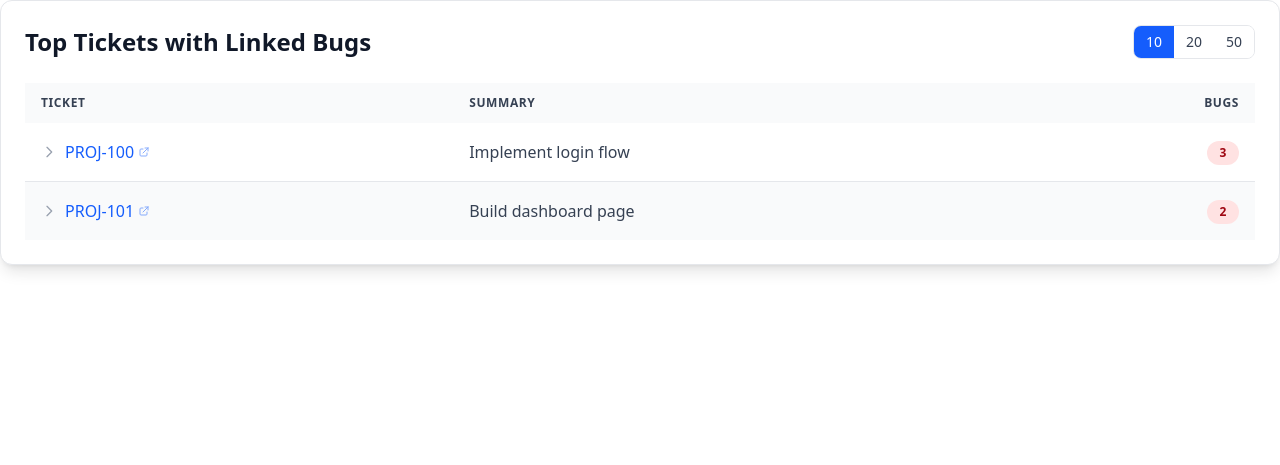
Test: TopTicketsWithBugsTable › only one row is expanded at a time
The width and height of the screenshot is (1280, 465).
Expected: the link "PROJ-100" is shown, [65,140,150,164]
# Expand first row
What coordinates should you click on to do the following:
click the text "Implement login flow"
I would click on:
 (640, 152)
Its box is [25,123,1255,182].
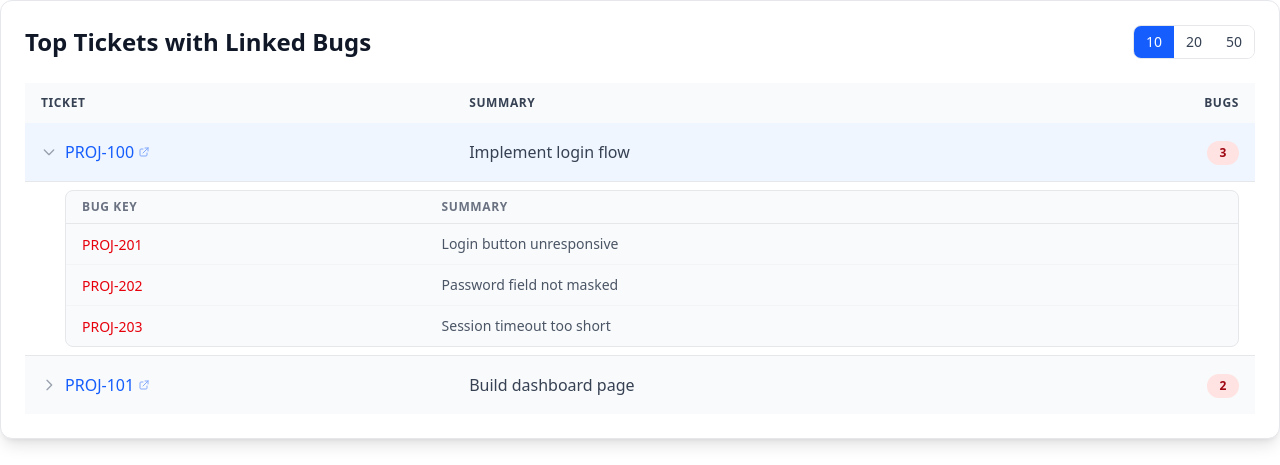
Expected: the text "Login button unresponsive" is shown, [426,224,1238,264]
# Expand second row
What coordinates should you click on to do the following:
click the text "Build dashboard page"
I would click on:
 (640, 385)
Its box is [25,356,1255,414].
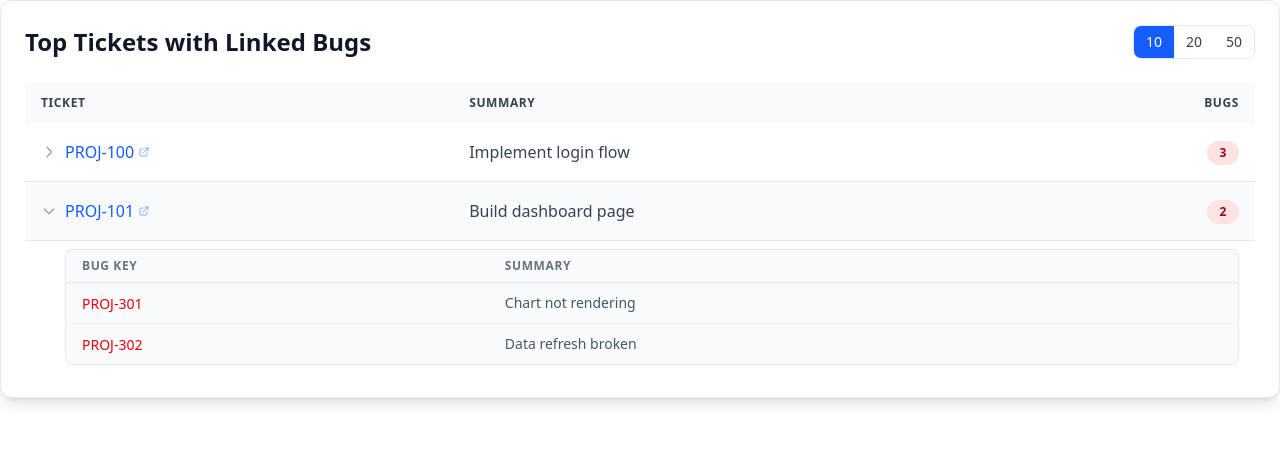
Expected: the text "Chart not rendering" is shown, [489,282,1238,324]
Expected: the text "Login button unresponsive" is gone
